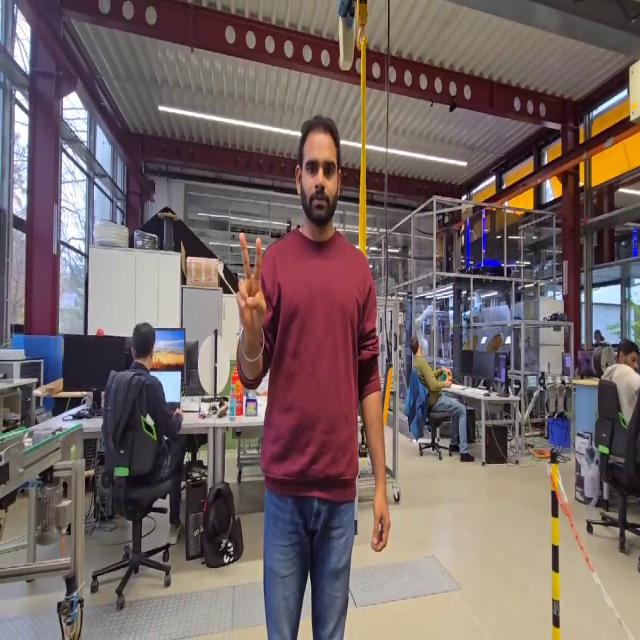v_sign: (233, 228, 268, 346)
